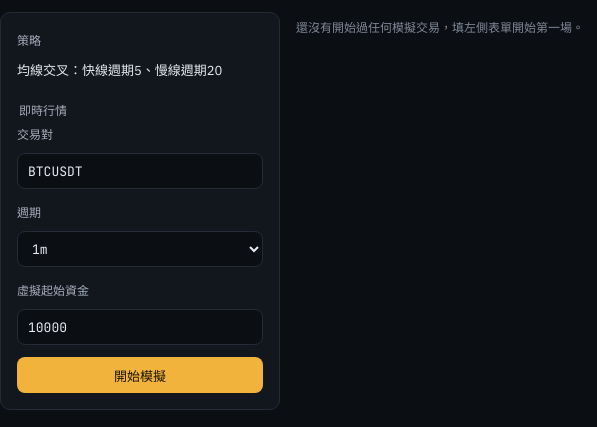
Test: PaperTrading › start_paper_trading 失敗時顯示錯誤訊息
Check: the text "均線交叉：快線週期5、慢線週期20" is shown, box [17,62,222,79]
Click the button "開始模擬".
click(140, 375)  # box [17,357,263,393]
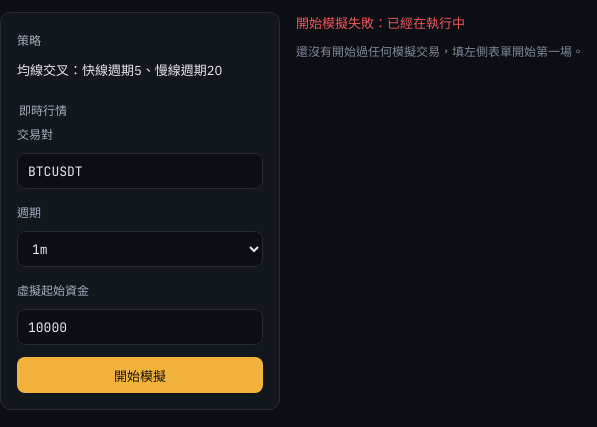
Check: the text "開始模擬失敗：已經在執行中" is shown, box [296,15,465,32]
